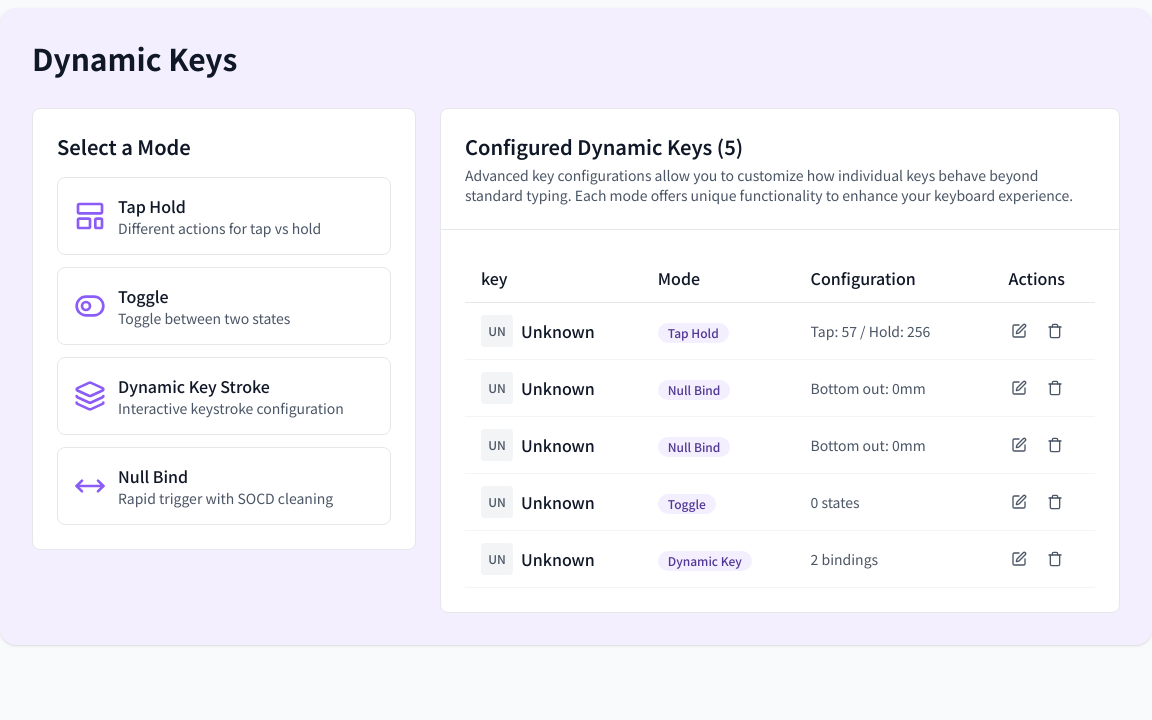
Dynamic Keys dashboard › deletes a dynamic key from the keyboard and gives its key back its own binding
Click the button named "Delete configuration" in the row of "0 states": (1055, 502) [1041,488,1069,516]
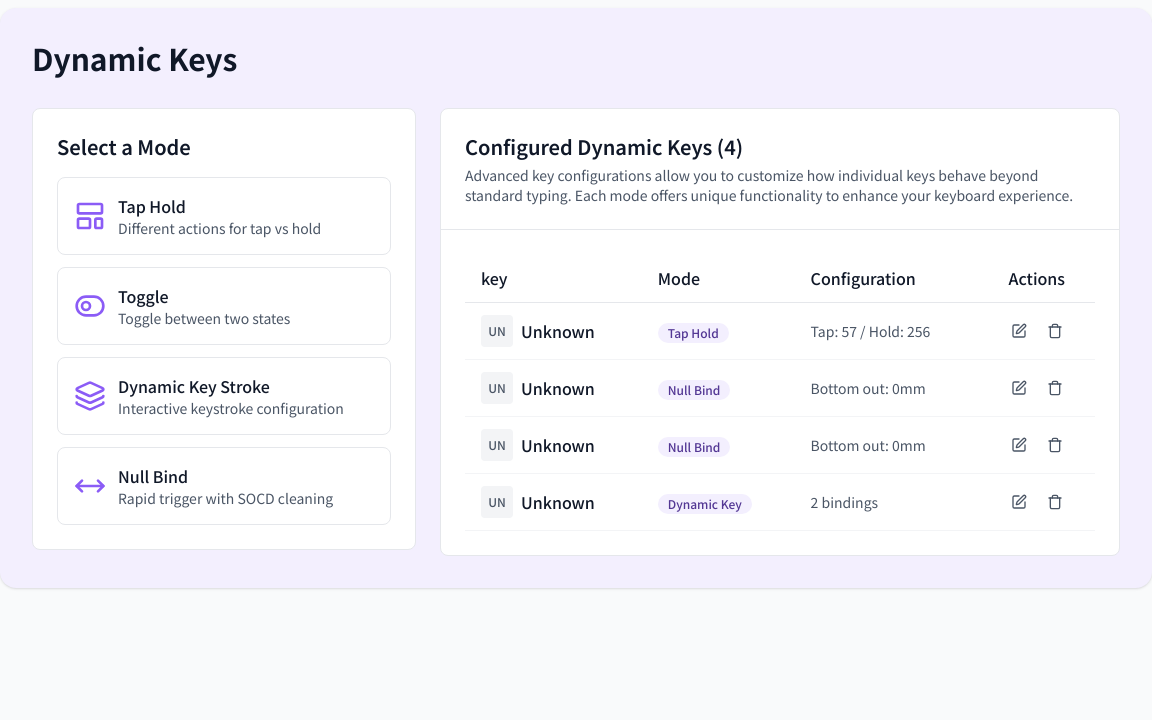
Expected: the heading "Configured Dynamic Keys (4)" is shown, [465,132,743,161]
